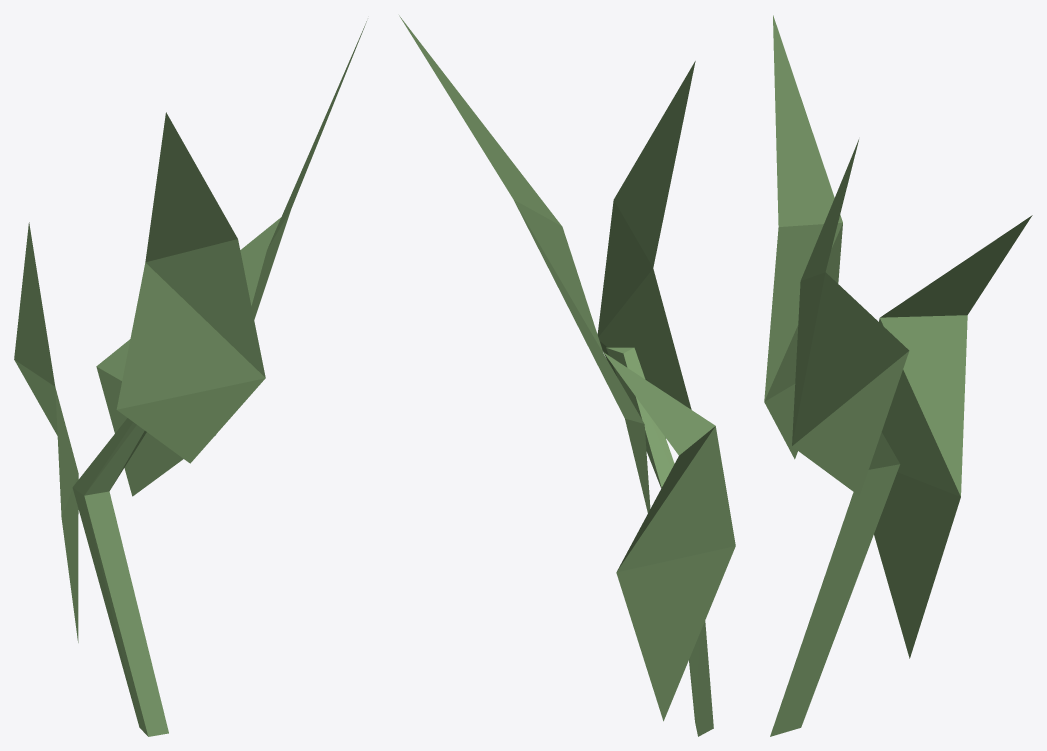
File: Wheat_2.fbx
3 views of the same model, side by side, from view 1: azimuth 30°, elevation 25°; view 2: azimuth 150°, elevation 25°; view 3: azimuth 270°, elevation 25° (orthographic). The views are drawn at different scales.
Visible parts, largest first — view 1: Wheat_2; view 2: Wheat_2; view 3: Wheat_2.
Boxes of the visible parts, box(x1,y1,x2,y2) form: Wheat_2: box(14, 21, 366, 736); Wheat_2: box(399, 15, 735, 736); Wheat_2: box(764, 15, 1032, 736).
Size of the model in its own units: 19.17 by 37.12 by 12.28.
